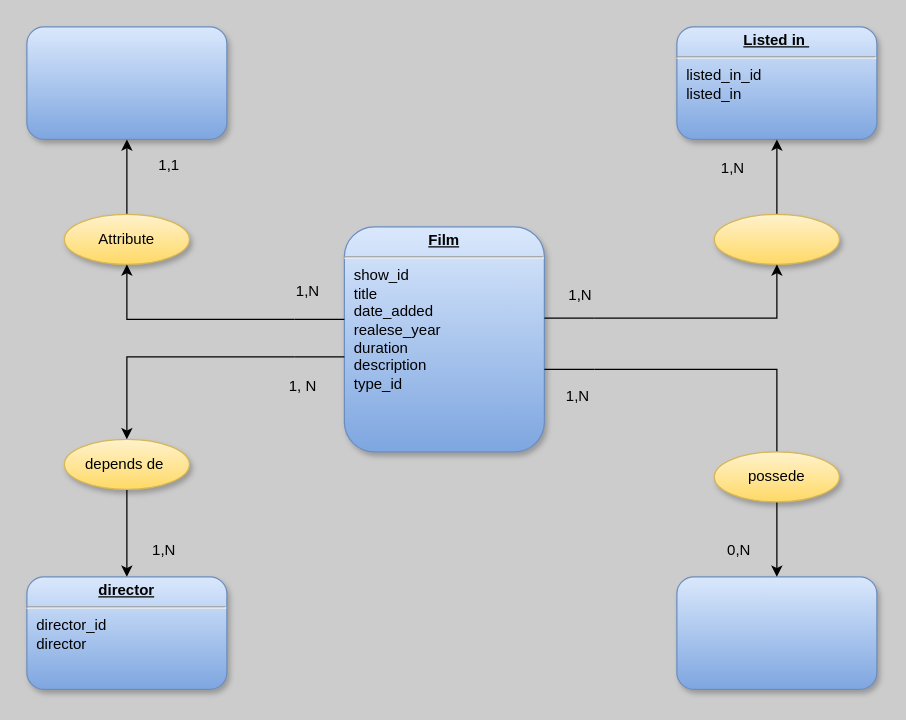
Some shapes in this 906 by 720 pixel diagram are drawn without their labels. Each missing label, with the centre of its shape:
"appartient a" belongs at pixel 777 240.
"Cast cast_id cast" belongs at pixel 777 634.
"Country contry_id country" belongs at pixel 127 84.
